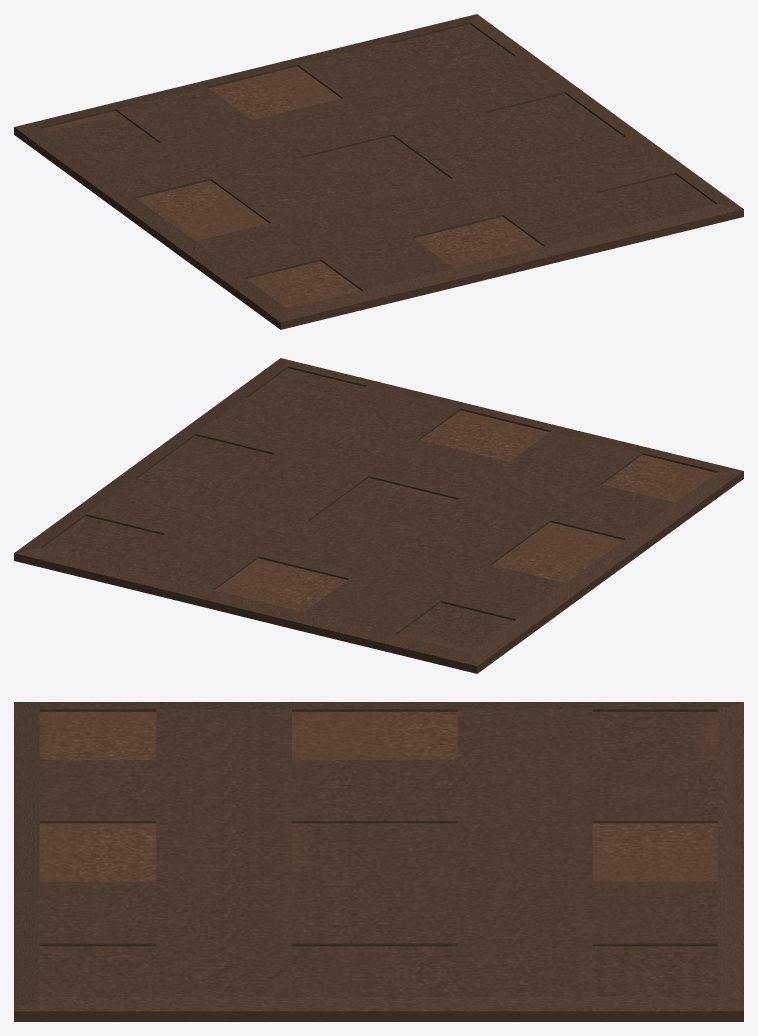
The model's file is _finalRug.fbx.
The picture shows the model from 3 angles, top to bottom: view 1: azimuth 30°, elevation 25°; view 2: azimuth 150°, elevation 25°; view 3: azimuth 270°, elevation 25°; orthographic projection. The views are drawn at different scales.
Visible parts, largest first — view 1: rug; view 2: rug; view 3: rug.
Boxes of the visible parts, <box> form: rug: <box>14,14,743,329</box>; rug: <box>14,358,743,673</box>; rug: <box>14,702,743,1021</box>.
Bounding box in the file's own units: 201 × 4.28 × 200.
Materials: 1 (1 with a texture image).
